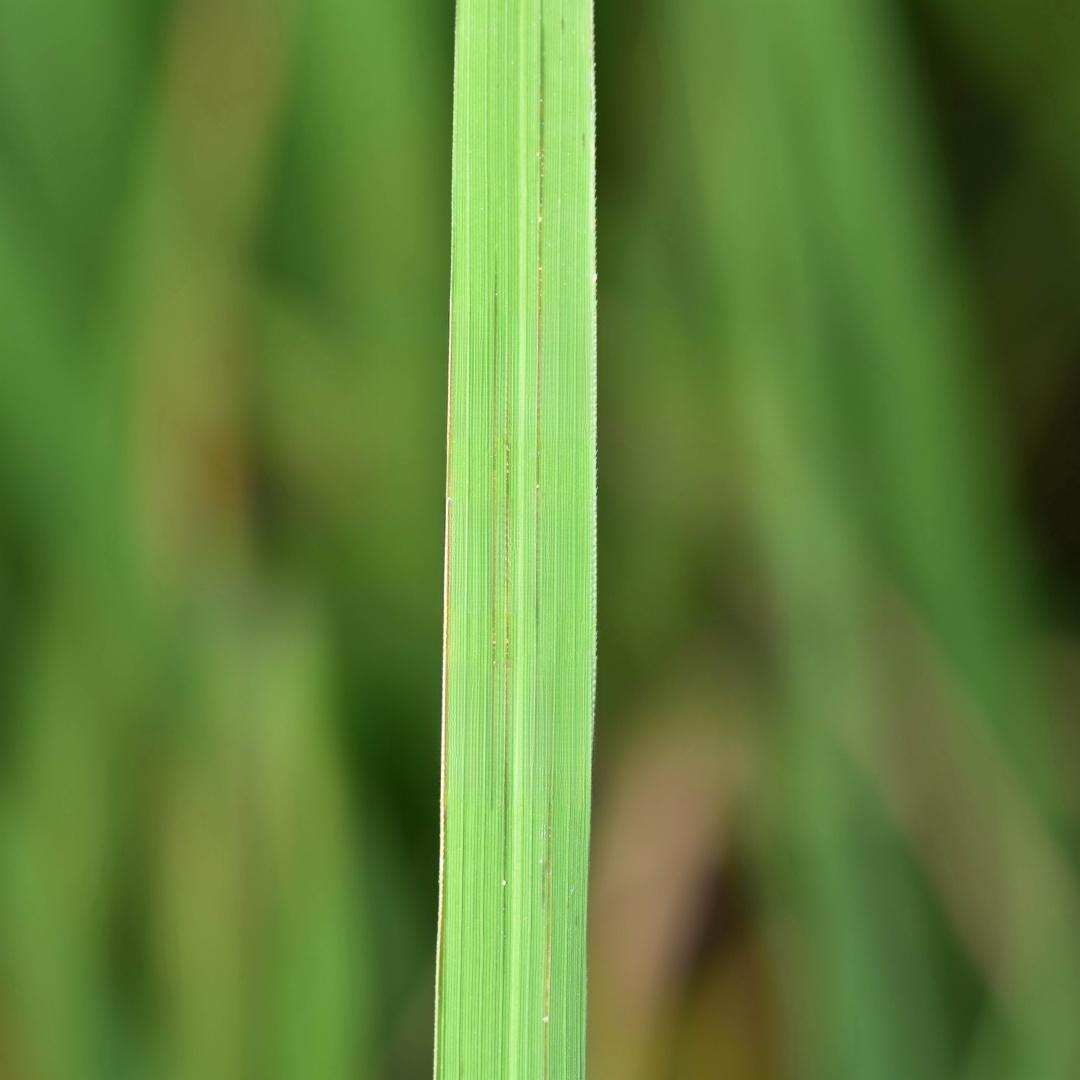BLS: (435, 315, 456, 1079), (504, 353, 512, 849), (491, 252, 498, 811), (537, 1, 544, 550), (544, 737, 555, 1079)
LEAF: (435, 0, 596, 1079)
